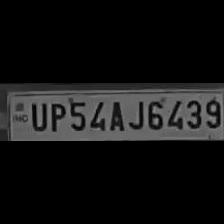3: (183, 96, 201, 130)
4: (164, 96, 184, 130), (88, 97, 106, 131)
5: (66, 97, 86, 132)
6: (144, 96, 162, 132)
9: (202, 95, 222, 129)
A: (105, 97, 124, 132)
J: (125, 96, 143, 132)
P: (47, 99, 65, 133)
U: (27, 100, 47, 132)
